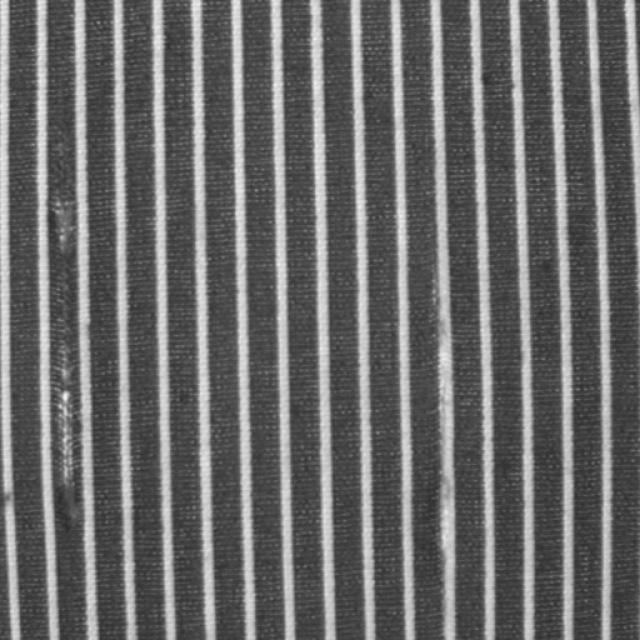Thread-Defect: (49, 142, 81, 529)
